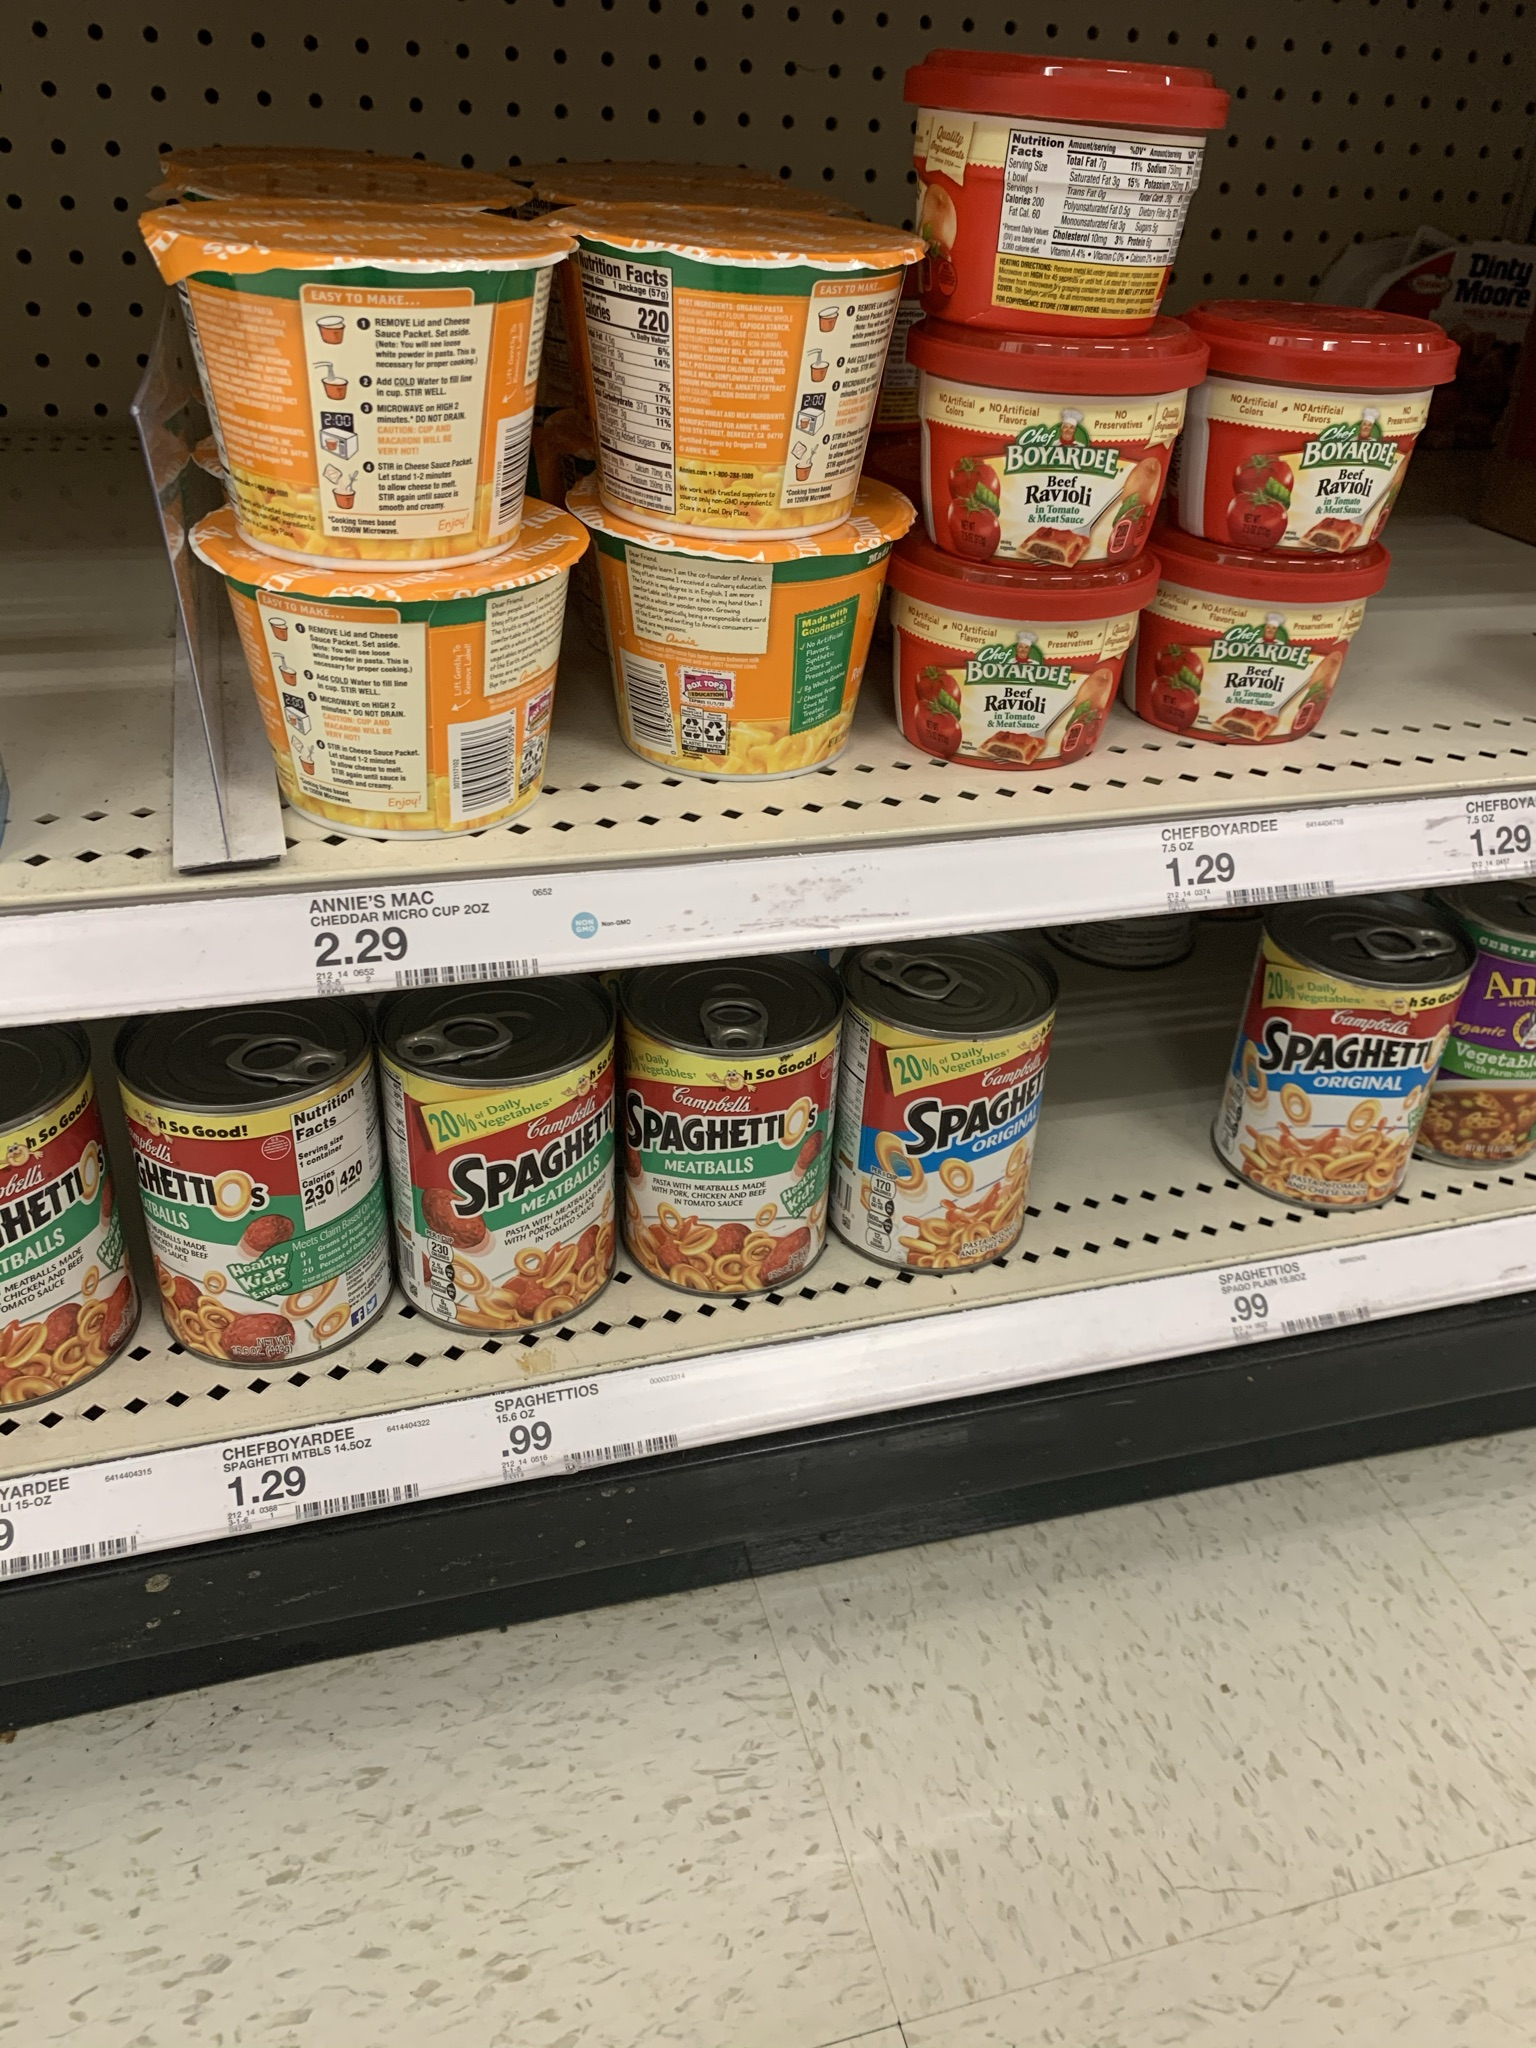can: (118, 1097, 389, 1359), (399, 1080, 624, 1334), (626, 1040, 841, 1293), (1233, 959, 1447, 1211), (845, 1018, 1044, 1276)
